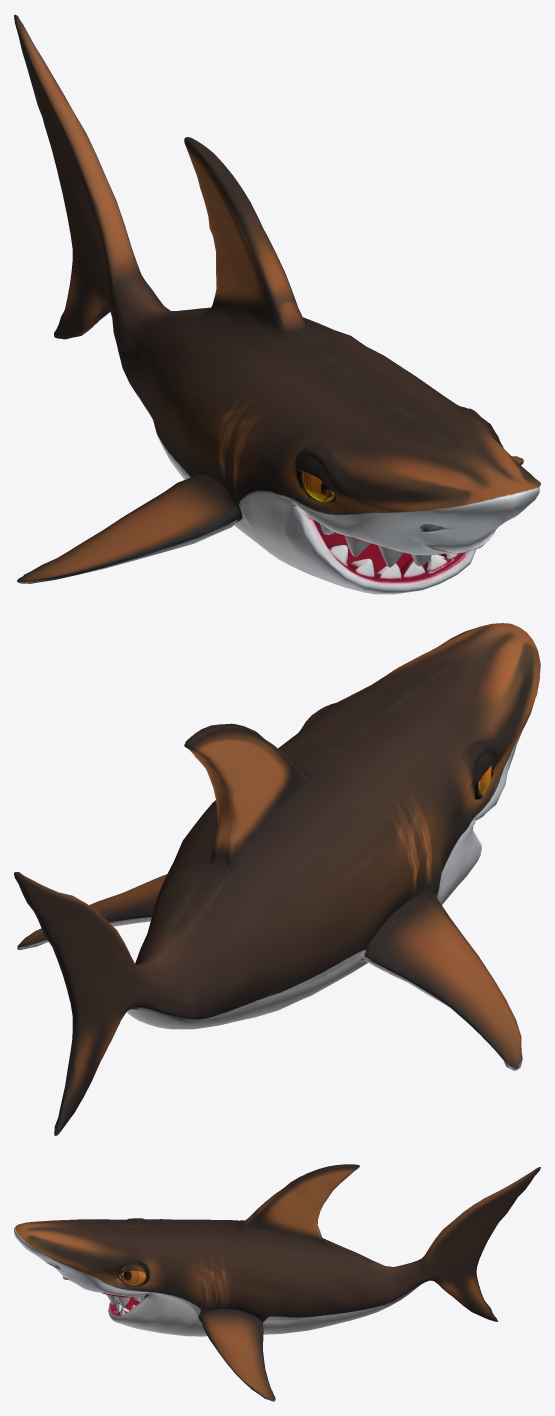
Rendered from shark-hammer.glb.
3 renders of one model, top to bottom at view 1: azimuth 30°, elevation 25°; view 2: azimuth 150°, elevation 25°; view 3: azimuth 270°, elevation 25°, orthographic. The views are drawn at different scales.
Bounding box in the file's own units: 0.5522 × 0.3423 × 0.9492.
1 material, 1 textured.
